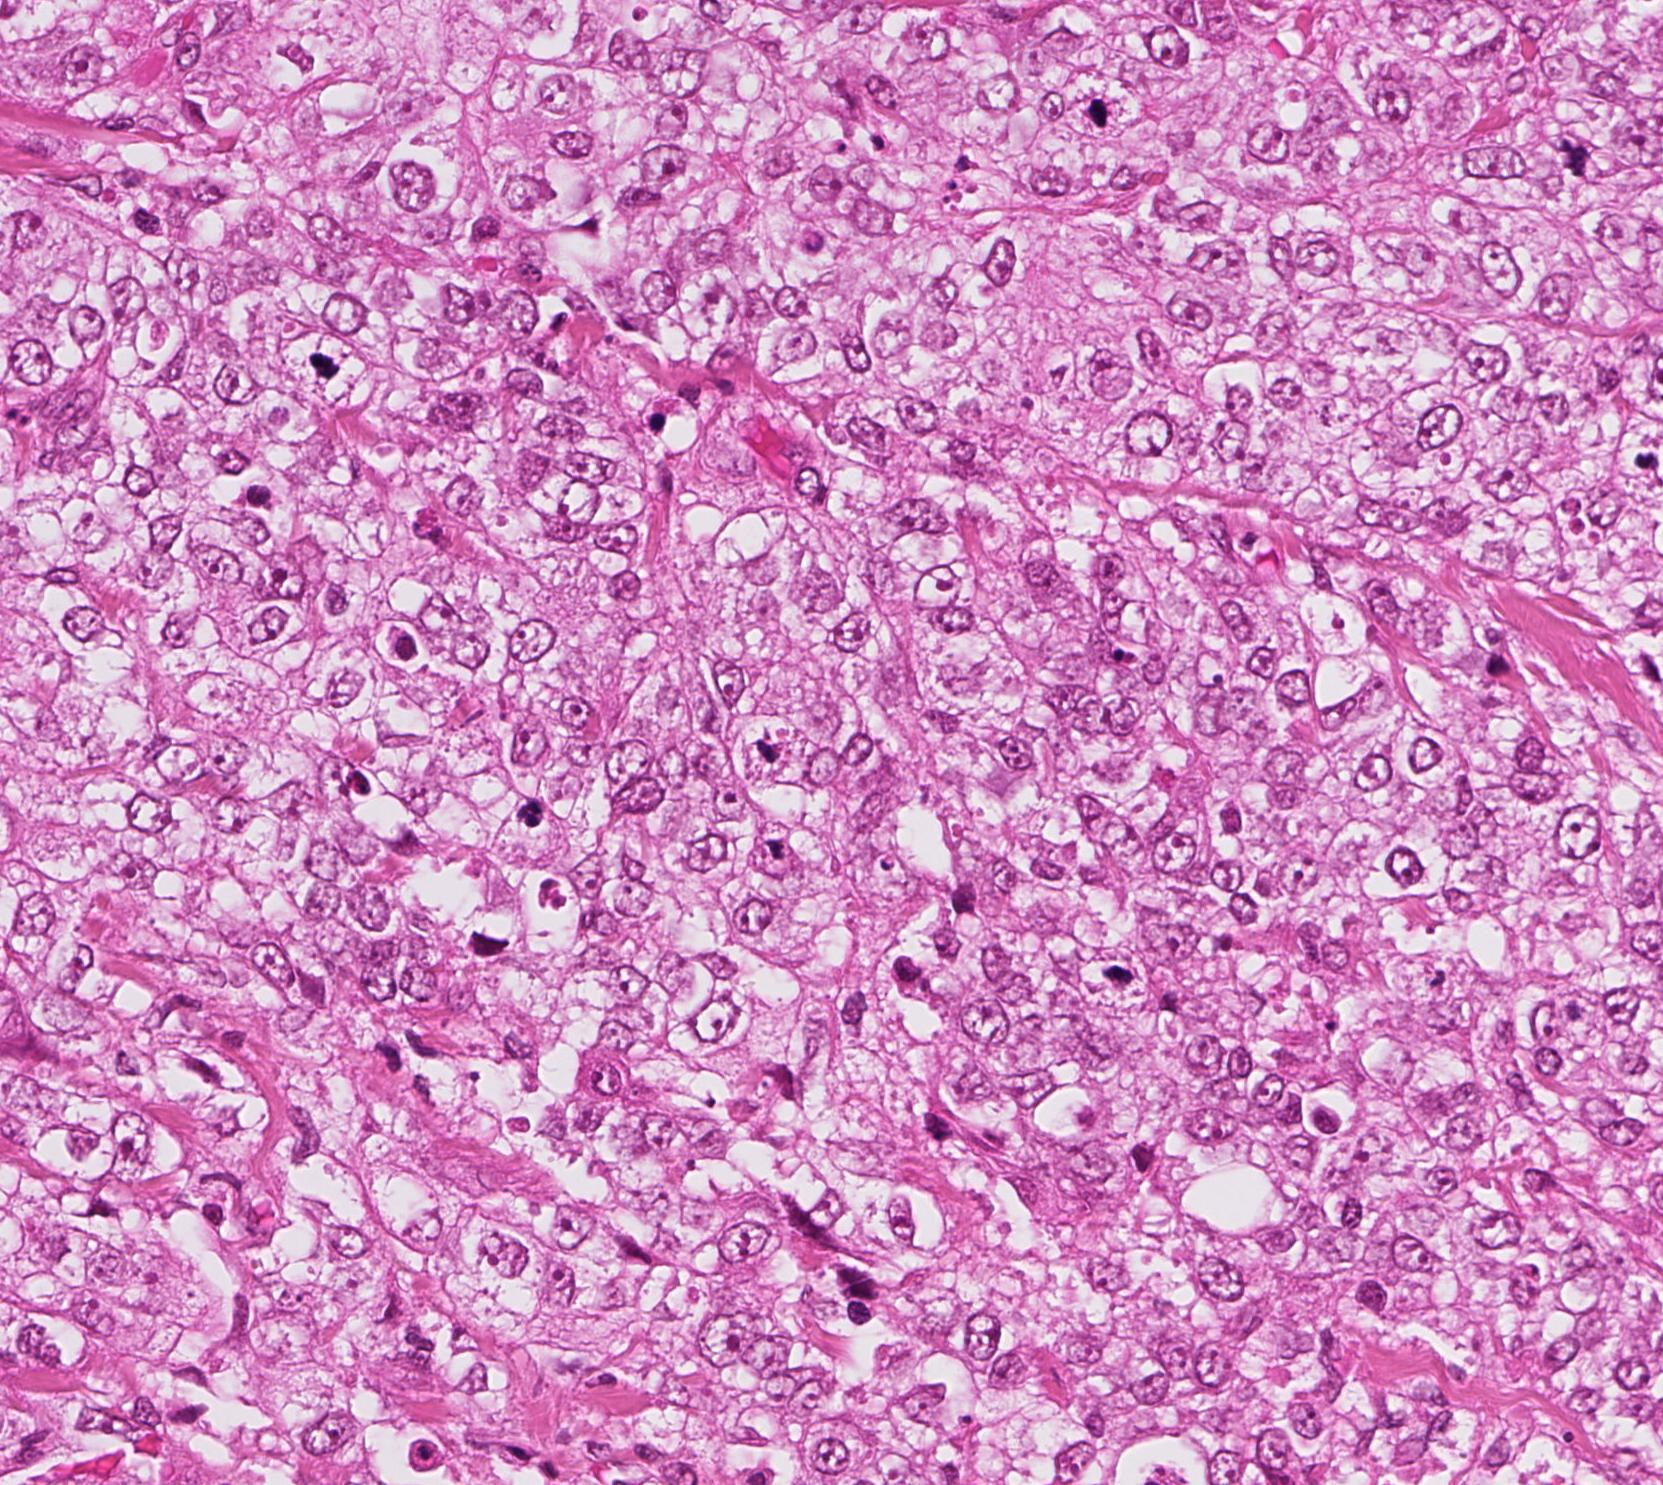mitosis: (297, 334, 357, 394)
